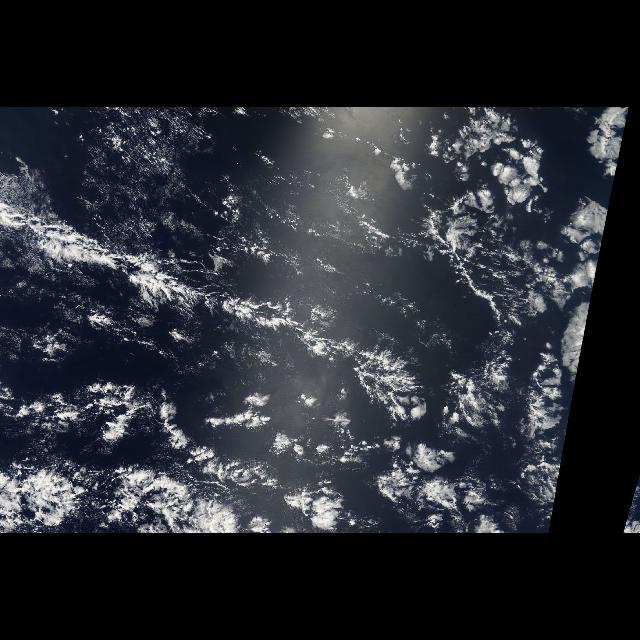Fish: (2, 184, 514, 518)
Flower: (433, 108, 631, 225)
Sugar: (65, 109, 312, 265)
